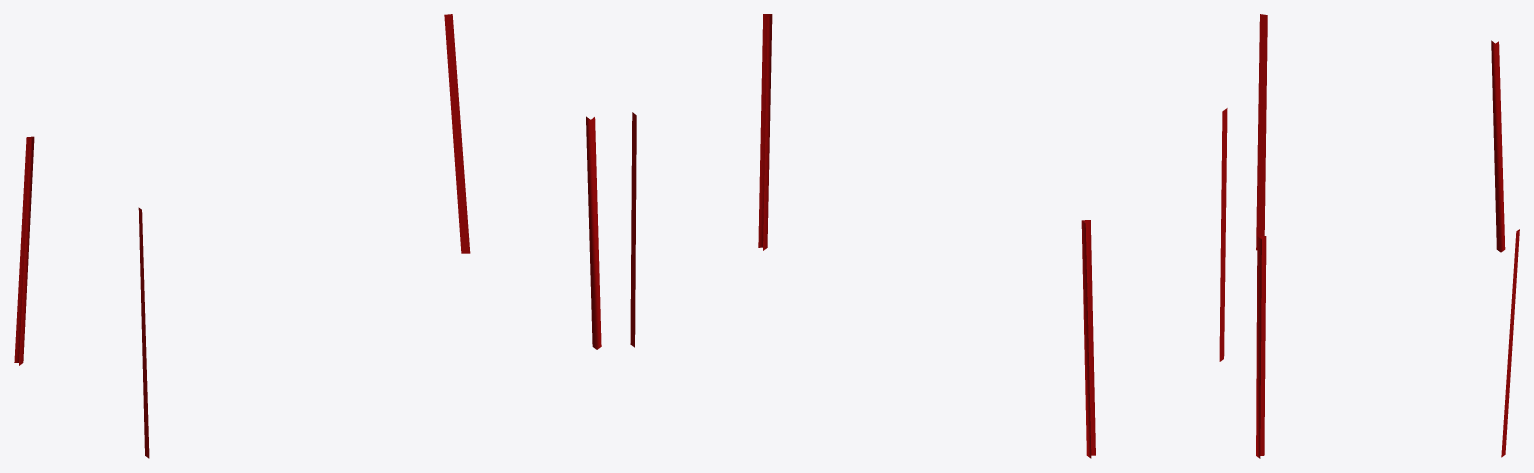
The model's file is canopy_6.glb.
3 renders of one model, left to right at view 1: azimuth 30°, elevation 25°; view 2: azimuth 150°, elevation 25°; view 3: azimuth 270°, elevation 25°, orthographic. The views are drawn at different scales.
Parts seen in each view (by area): view 1: MODEL_s_bazaar_lod0; view 2: MODEL_s_bazaar_lod0; view 3: MODEL_s_bazaar_lod0.
Boxes of the visible parts, x1,y1,x2,y2 form: MODEL_s_bazaar_lod0: (14,14,601,458); MODEL_s_bazaar_lod0: (630,14,1227,458); MODEL_s_bazaar_lod0: (1256,14,1519,458).
Size of the model in its own units: 2.04 by 1.06 by 1.08.
